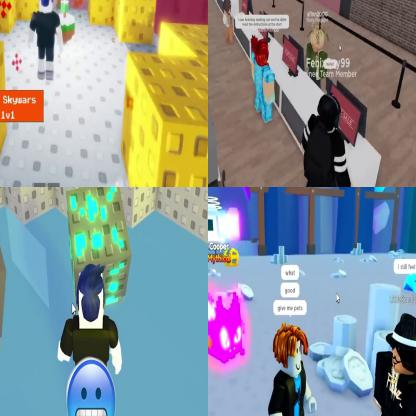Roblox-Avatar: (59, 264, 123, 375), (301, 94, 355, 187), (269, 323, 318, 416), (373, 313, 416, 416), (28, 1, 65, 82), (251, 36, 277, 125), (307, 26, 331, 90)
